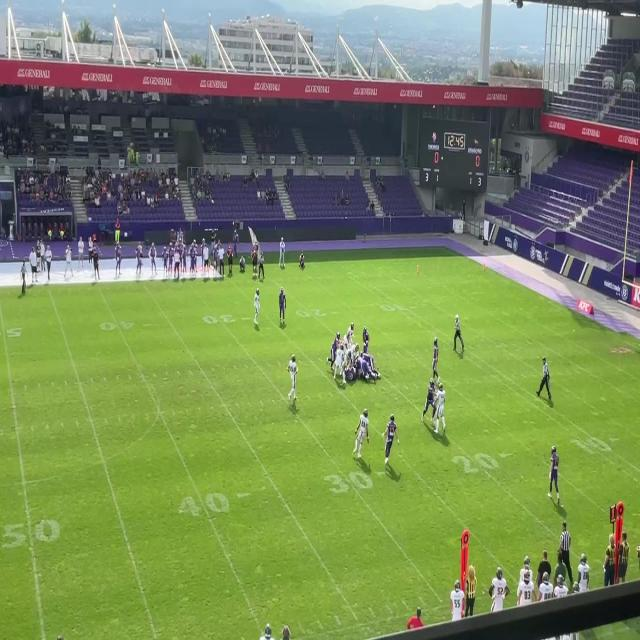1: (567, 435, 601, 460)
2: (451, 451, 480, 479)
3: (324, 470, 351, 500)
4: (178, 492, 205, 526)
5: (0, 518, 31, 561)
american-football-players: (546, 444, 563, 508), (383, 412, 399, 471), (352, 406, 369, 459), (434, 380, 447, 437), (285, 353, 299, 405), (355, 349, 374, 386), (424, 372, 437, 425), (360, 349, 384, 375), (429, 335, 441, 380), (252, 285, 264, 328), (333, 348, 347, 379), (278, 285, 288, 325), (329, 329, 339, 363), (359, 325, 370, 352), (347, 320, 356, 345), (347, 361, 355, 385), (344, 329, 351, 348)
